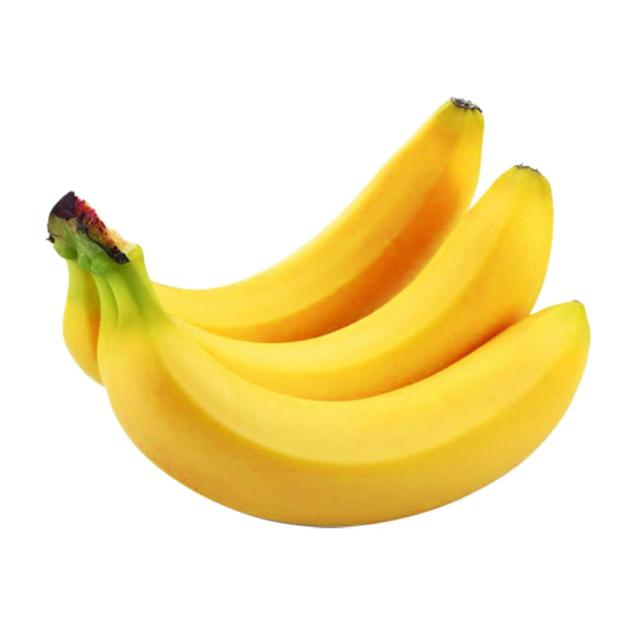Pisang: (42, 97, 592, 532)
